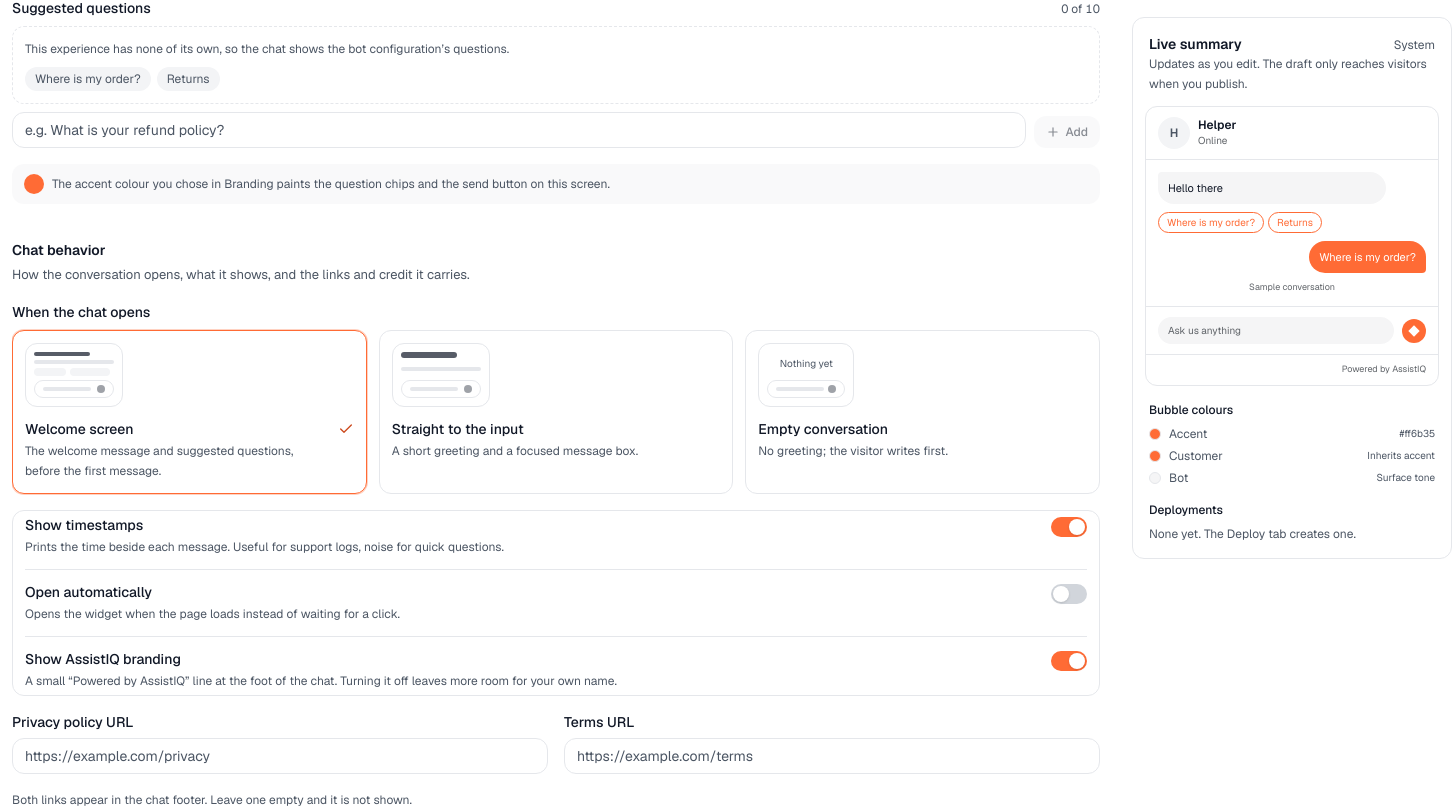
it: Experience Design tab › warns when the widget would open itself
(page scrolled)
Click the switch named "Open automatically": point(1069, 594) top-left (1051, 584), bottom-right (1087, 604)
(page scrolled)
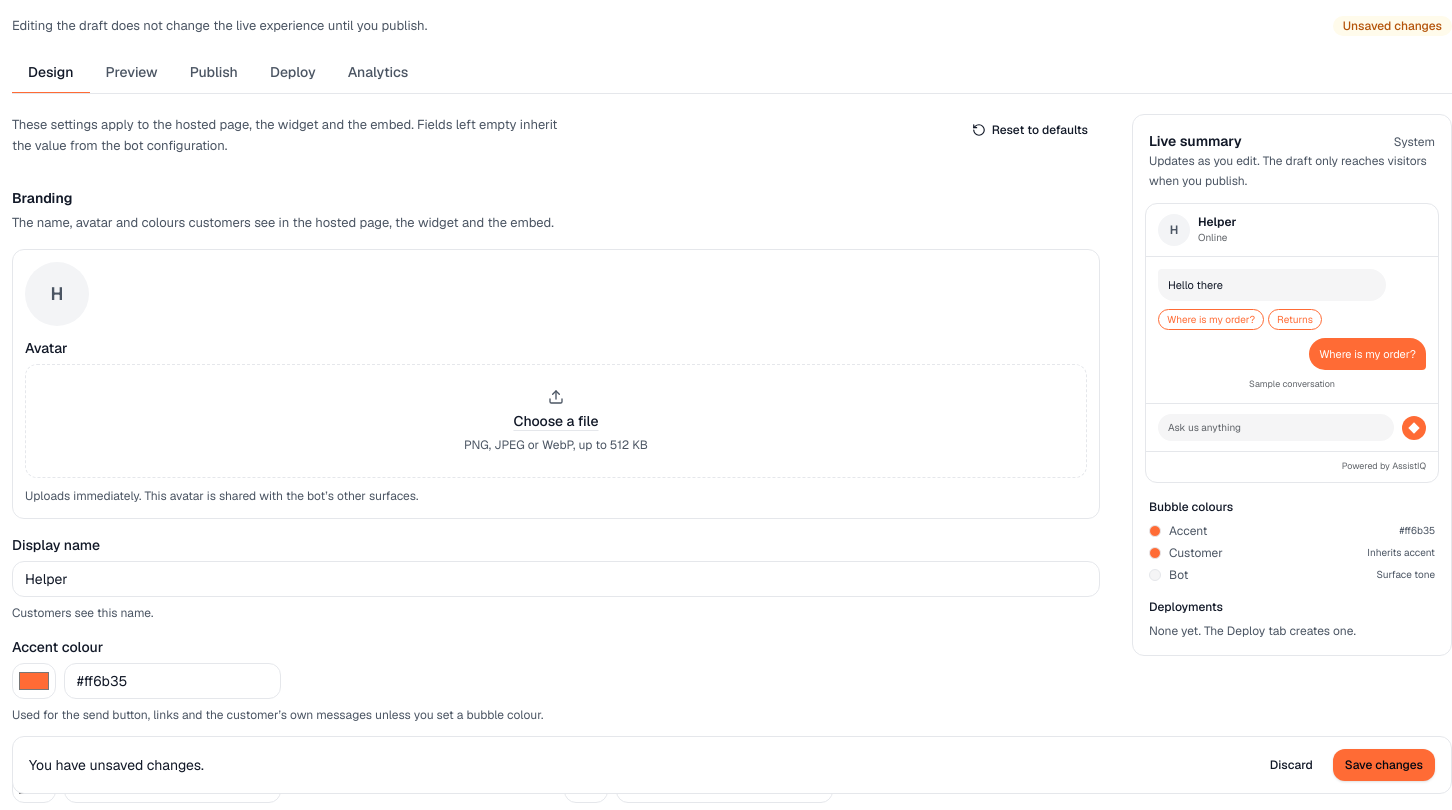
Expected: the text "Unsaved changes" is shown, top-left (1333, 16), bottom-right (1451, 36)
